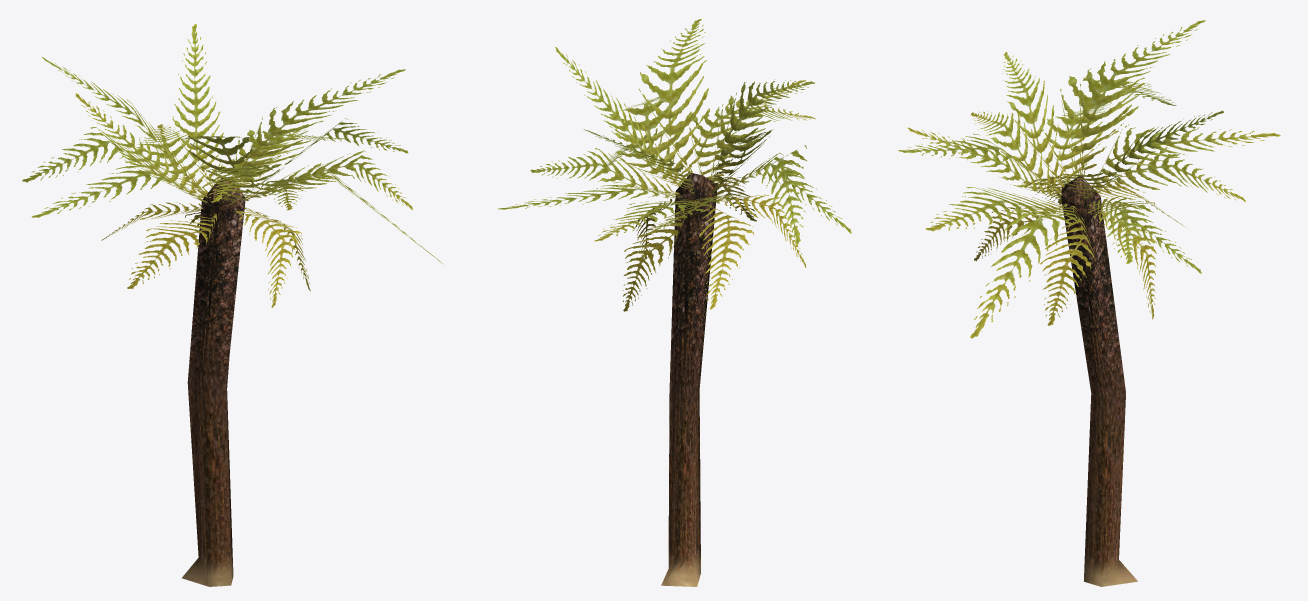
The model's file is M5_Palm03.glb.
The picture shows the model from 3 angles, left to right: view 1: azimuth 30°, elevation 25°; view 2: azimuth 150°, elevation 25°; view 3: azimuth 270°, elevation 25°; orthographic projection. The views are drawn at different scales.
Parts seen in each view (by area): view 1: M5_PALM03; view 2: M5_PALM03; view 3: M5_PALM03.
Part boxes in pixels (x1,y1,x2,y2): M5_PALM03: (22, 24, 443, 586); M5_PALM03: (498, 19, 851, 586); M5_PALM03: (898, 20, 1280, 586).
Bounding box in the file's own units: 3.33 × 4.57 × 3.32.
2 materials, 2 textured.
